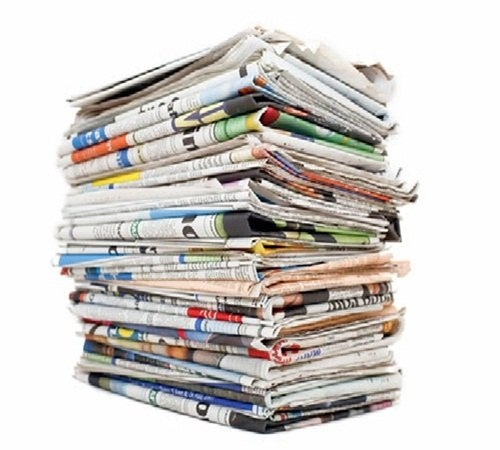paper: (54, 21, 400, 142), (44, 188, 410, 282), (73, 336, 413, 433), (46, 120, 412, 199), (63, 272, 402, 345)
